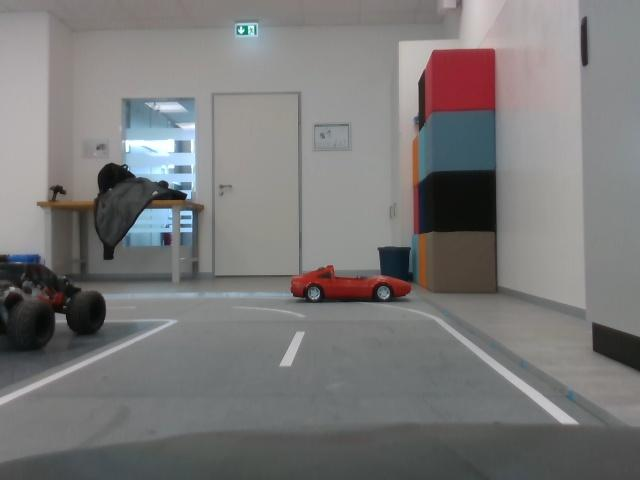car: (2, 249, 119, 354), (292, 260, 415, 309)
